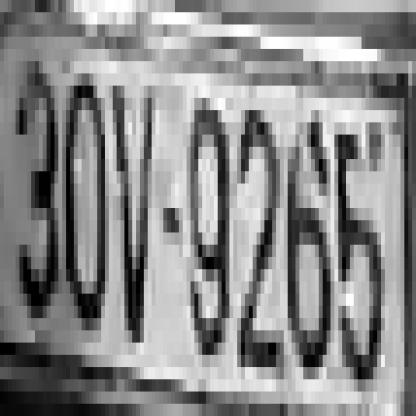0: (66, 86, 109, 318)
2: (233, 110, 280, 367)
3: (20, 61, 58, 318)
5: (330, 122, 381, 380)
6: (284, 122, 330, 367)
9: (190, 98, 226, 355)
V: (113, 85, 156, 342)
